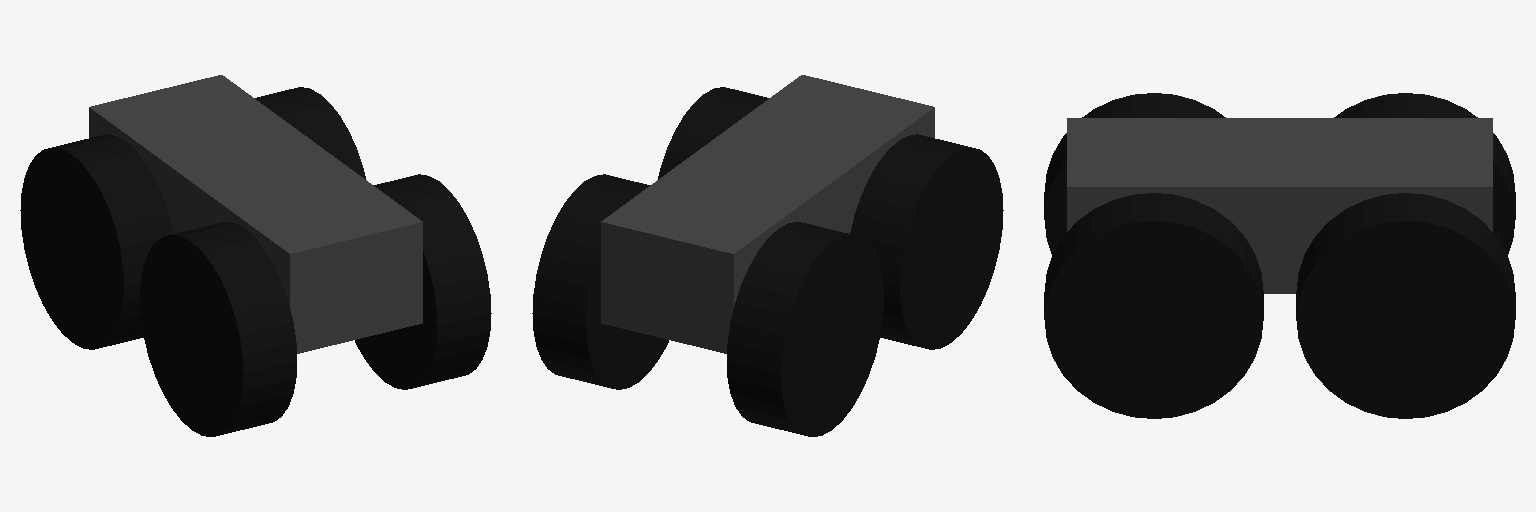
robot.urdf — teo:
<!--
~~~~~~~~~~~~~~~~~~~~~~~~~~~~~~~~~~~~~~~~~~~~~~~~~~~~~~~~~~~~~~~~~~~~~~~~~~~~~~~~
          TEO ROBOT URDF MODEL
~~~~~~~~~~~~~~~~~~~~~~~~~~~~~~~~~~~~~~~~~~~~~~~~~~~~~~~~~~~~~~~~~~~~~~~~~~~~~~~~
          Institut de Robotica i Informatica Industrial (IRI) UPC-CSIC
          author: mmorta
~~~~~~~~~~~~~~~~~~~~~~~~~~~~~~~~~~~~~~~~~~~~~~~~~~~~~~~~~~~~~~~~~~~~~~~~~~~~~~~~
 -->

<robot name="teo" 
    xmlns:sensor="http://playerstage.sourceforge.net/gazebo/xmlschema/#sensor"
    xmlns:controller="http://playerstage.sourceforge.net/gazebo/xmlschema/#controller"
    xmlns:interface="http://playerstage.sourceforge.net/gazebo/xmlschema/#interface">

<!-- BODY -->
  <!-- link -->
  <link name="body">
    <visual>
      <origin xyz="0 0 0.125"/>
      <geometry>
       <box size="0.37 0.97 0.27"/>
      </geometry>
      <material name="grey">
        <color rgba="0.3 0.3 .3 1"/>
      </material>
    </visual>
    <!-- gazebo (inertia, collision, material)-->
    <inertial>
      <origin xyz="0 0 0"/>
      <mass value="100.0" />
      <inertia  ixx="1.748" ixy="0.0"  ixz="0.0"  iyy="8.448"  iyz="0.0"  izz="8.982"/>
    </inertial>
    <collision>
      <origin xyz="0 0 0"/>
      <geometry>
        <box size="0.37 0.97 0.27"/>
      </geometry>
    </collision>
  </link>
  <gazebo reference="body">
    <material>PR2/Grey3</material>
  </gazebo>

<!-- WHEEL FRONT LEFT -->
  <!-- joint -->
  <joint name="body2wheel_fl" type="fixed" >
    <parent link="body"/>
    <child link="wheel_fl"/>
    <origin xyz="0.27 0.2875 0" rpy="0 1.57079 0"/>
    <axis xyz="0 1 0" />
  </joint>
  <!-- link -->
  <link name="wheel_fl">
    <visual>
      <geometry>
        <cylinder length="0.15" radius="0.25"/>
      </geometry>
      <material name="dark_grey">
        <color rgba="0.1 0.1 0.1 1"/>
      </material>
    </visual>
    <!-- gazebo (inertia, collision, material)-->
    <inertial>
      <mass value="100.0" />
      <inertia  ixx="0.0529" ixy="0.0"  ixz="0.0"  iyy="0.09375"  iyz="0.0"  izz="0.0529"/>
    </inertial>
    <collision>
      <geometry>
        <cylinder length="0.015" radius="0.25"/>
      </geometry>
    </collision>
  </link>
  <gazebo reference="wheel_fl">
    <material>Gazebo/Black</material>
  </gazebo>

<!-- WHEEL FRONT RIGHT -->
  <!-- joint -->
  <joint name="body2wheel_fr" type="fixed" >
    <parent link="body"/>
    <child link="wheel_fr"/>
    <origin xyz="0.27 -0.2875 0" rpy="0 1.57079 0"/>
  </joint>
  <!-- link -->
  <link name="wheel_fr">
    <visual>
      <geometry>
        <cylinder length="0.15" radius="0.25"/>
      </geometry>
      <material name="dark_grey">
        <color rgba="0.1 0.1 0.1 1"/>
      </material>
    </visual>
    <inertial>
      <mass value="100.0" />
      <inertia  ixx="0.0529" ixy="0.0"  ixz="0.0"  iyy="0.09375"  iyz="0.0"  izz="0.0529"/>
    </inertial>
    <!-- gazebo (inertia, collision, material)-->
    <collision>
      <geometry>
        <cylinder length="0.015" radius="0.25"/>
      </geometry>
    </collision>
  </link>
  <gazebo reference="wheel_fr">
    <material>Gazebo/Black</material>
  </gazebo>

<!-- WHEEL BACK LEFT -->
  <!-- joint -->
  <joint name="body2wheel_bl" type="fixed" >
    <parent link="body"/>
    <child link="wheel_bl"/>
    <origin xyz="-0.27 0.2875 0" rpy="0 1.57079 0"/>
  </joint>
  <!-- link -->
  <link name="wheel_bl">
    <visual>
      <geometry>
        <cylinder length="0.15" radius="0.25"/>
      </geometry>
      <material name="dark_grey">
        <color rgba="0.1 0.1 0.1 1"/>
      </material>
    </visual>
    <!-- gazebo (inertia, collision, material)-->
    <inertial>
      <mass value="100.0" />
      <inertia  ixx="0.0529" ixy="0.0"  ixz="0.0"  iyy="0.09375"  iyz="0.0"  izz="0.0529"/>
    </inertial>
    <collision>
      <geometry>
        <cylinder length="0.015" radius="0.25"/>
      </geometry>
    </collision>
  </link>
  <gazebo reference="wheel_bl">
    <material>Gazebo/Black</material>
  </gazebo>

<!-- WHEEL BACK RIGHT -->
  <!-- joint -->
  <joint name="body2wheel_br" type="fixed" >
    <parent link="body"/>
    <child link="wheel_br"/>
    <origin xyz="-0.27 -0.2875 0" rpy="0 1.57079 0"/>
  </joint>
  <!-- link -->
  <link name="wheel_br">
    <visual>
      <geometry>
        <cylinder length="0.15" radius="0.25"/>
      </geometry>
      <material name="dark_grey">
        <color rgba="0.1 0.1 0.1 1"/>
      </material>
    </visual>
    <!-- gazebo (inertia, collision, material)-->
    <inertial>
      <mass value="100.0" />
      <inertia  ixx="0.0529" ixy="0.0"  ixz="0.0"  iyy="0.09375"  iyz="0.0"  izz="0.0529"/>
    </inertial>
    <collision>
      <geometry>
        <cylinder length="0.015" radius="0.25"/>
      </geometry>
    </collision>
  </link>
  <gazebo reference="wheel_br">
    <material>Gazebo/Black</material>
  </gazebo>


</robot>

--- Render facts (derived) ---
3 views of the same robot in one strip: view 1: azimuth 30°, elevation 25°; view 2: azimuth 150°, elevation 25°; view 3: azimuth 270°, elevation 25° (orthographic).
Robot: teo — 5 links, 4 joints (4 fixed); root link body; default pose: every joint at zero.
Visible links, largest first — view 1: body, wheel_br, wheel_bl, wheel_fr, wheel_fl; view 2: body, wheel_bl, wheel_br, wheel_fl, wheel_fr; view 3: body, wheel_fl, wheel_fr, wheel_bl, wheel_br.
Link boxes in pixels (left/top/right/bottom): body: left=89, top=75, right=422, bottom=353; wheel_br: left=140, top=222, right=296, bottom=436; wheel_bl: left=20, top=134, right=173, bottom=349; wheel_fr: left=355, top=174, right=491, bottom=389; wheel_fl: left=255, top=87, right=365, bottom=179; body: left=601, top=75, right=934, bottom=353; wheel_bl: left=727, top=222, right=883, bottom=436; wheel_br: left=850, top=134, right=1003, bottom=349; wheel_fl: left=532, top=174, right=668, bottom=389; wheel_fr: left=658, top=87, right=768, bottom=179; body: left=1067, top=118, right=1492, bottom=293; wheel_fl: left=1296, top=193, right=1515, bottom=418; wheel_fr: left=1044, top=193, right=1263, bottom=418; wheel_bl: left=1334, top=93, right=1515, bottom=254; wheel_br: left=1044, top=93, right=1225, bottom=254.
Bounding box of the posed robot: 0.69 × 1.07 × 0.51 m (x, y, z).
Geometry: primitives only (box / cylinder / sphere), no mesh files.
